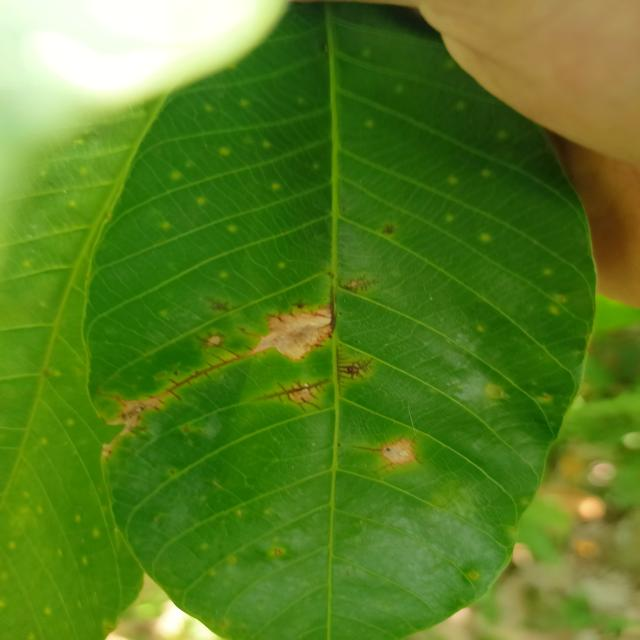Corynespora: (148, 346, 260, 404), (252, 378, 331, 412), (336, 345, 374, 395), (337, 274, 381, 294), (327, 285, 337, 336)
Leaf-Blight: (255, 306, 330, 361), (119, 399, 156, 428), (381, 440, 417, 466)
